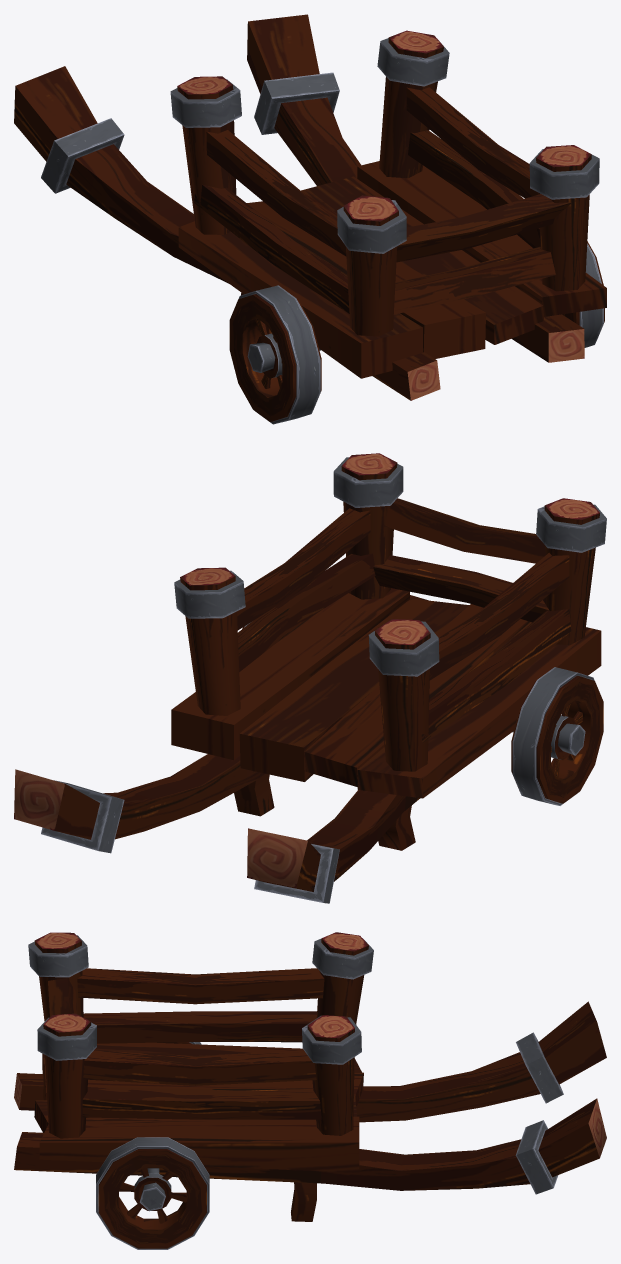
File: charrette.glb
3 views of the same model, one above another, from view 1: azimuth 30°, elevation 25°; view 2: azimuth 150°, elevation 25°; view 3: azimuth 270°, elevation 25° (orthographic). The views are drawn at different scales.
Visible parts, largest first — view 1: SM_PROP_cart_01; view 2: SM_PROP_cart_01; view 3: SM_PROP_cart_01.
Boxes of the visible parts, bbox=[...] form: SM_PROP_cart_01: bbox=[14, 14, 606, 424]; SM_PROP_cart_01: bbox=[14, 453, 606, 903]; SM_PROP_cart_01: bbox=[14, 932, 606, 1249].
Size of the model in its own units: 2.34 by 1.68 by 4.38.
3 materials, 3 textured.
